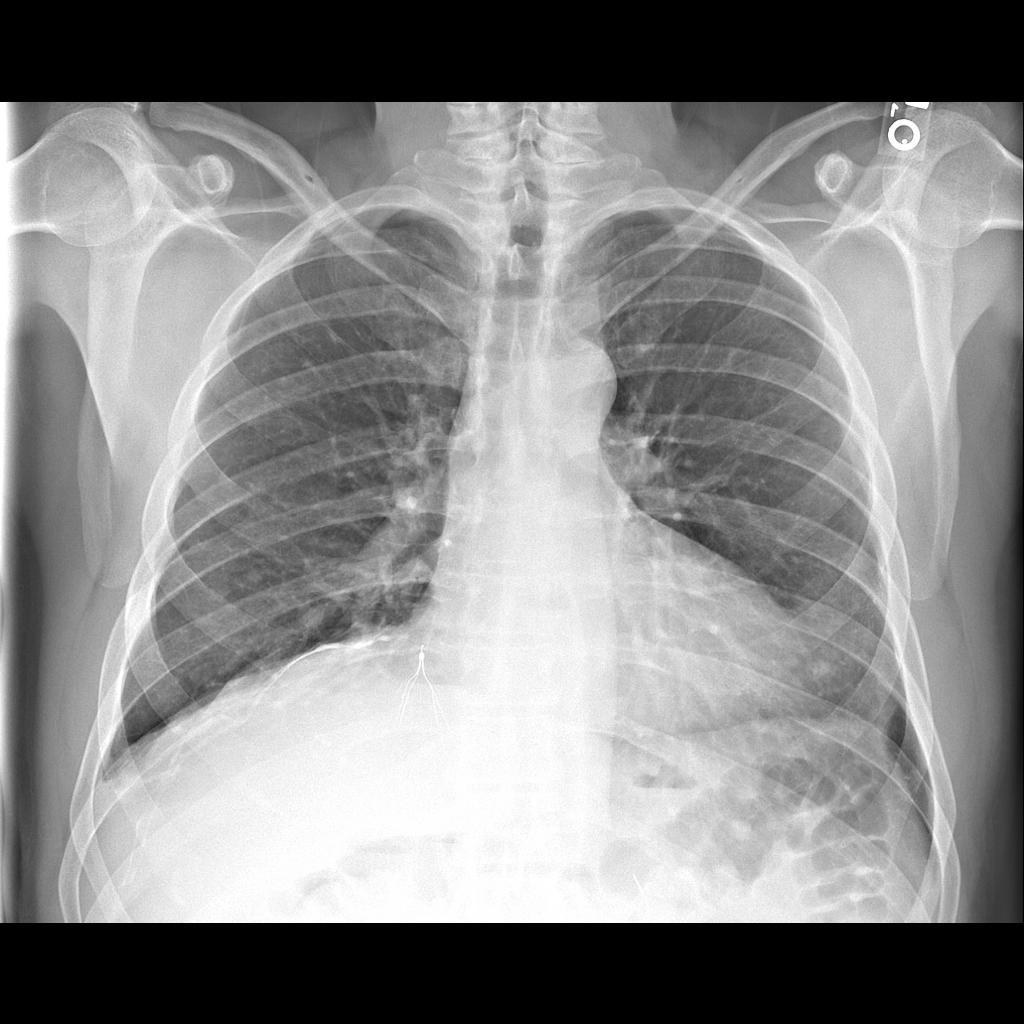Nodule: (294, 592, 330, 638)
